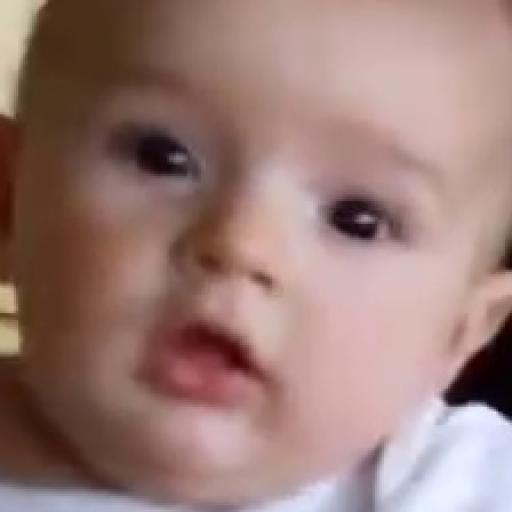Autism: (23, 0, 512, 504)
